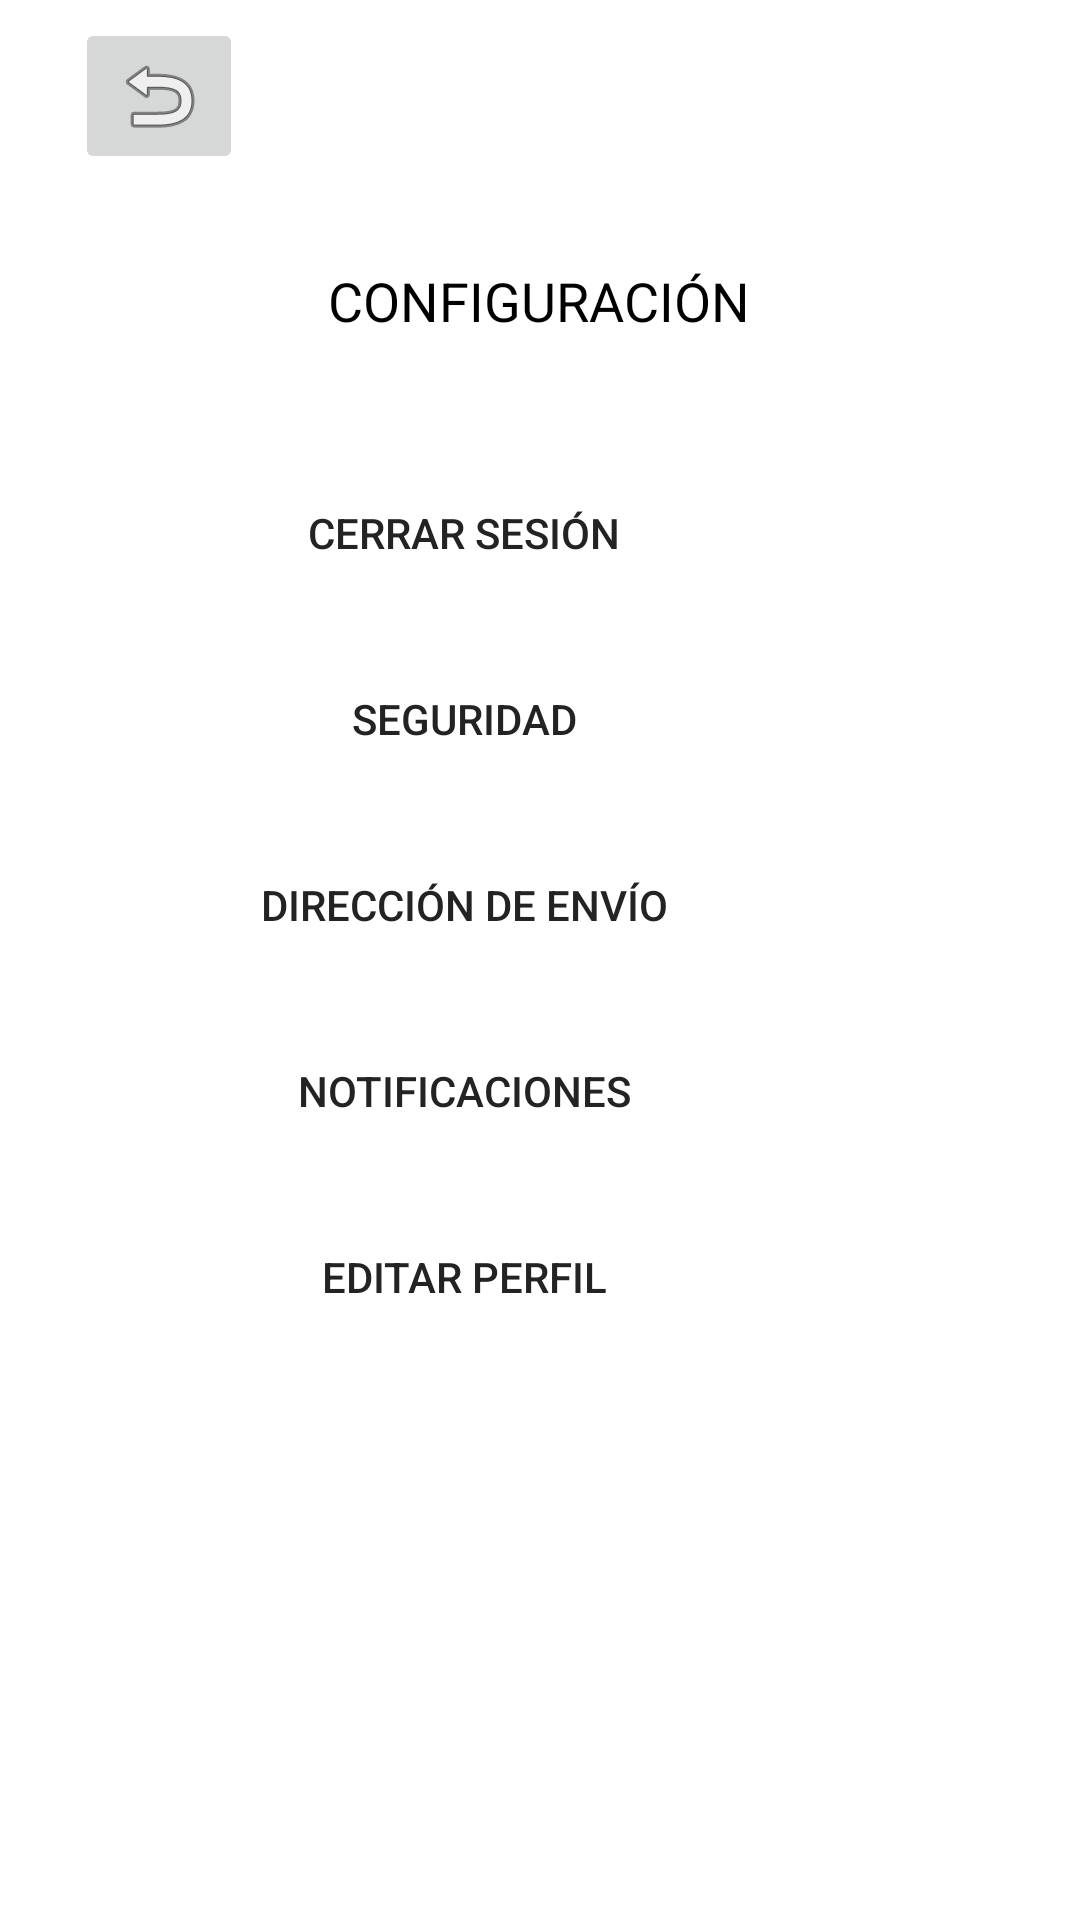

Icon bounding boxes for this 1080*1920 phone screenshot, format region(x1, y1, x2, y2):
revert: region(87, 36, 231, 156)
